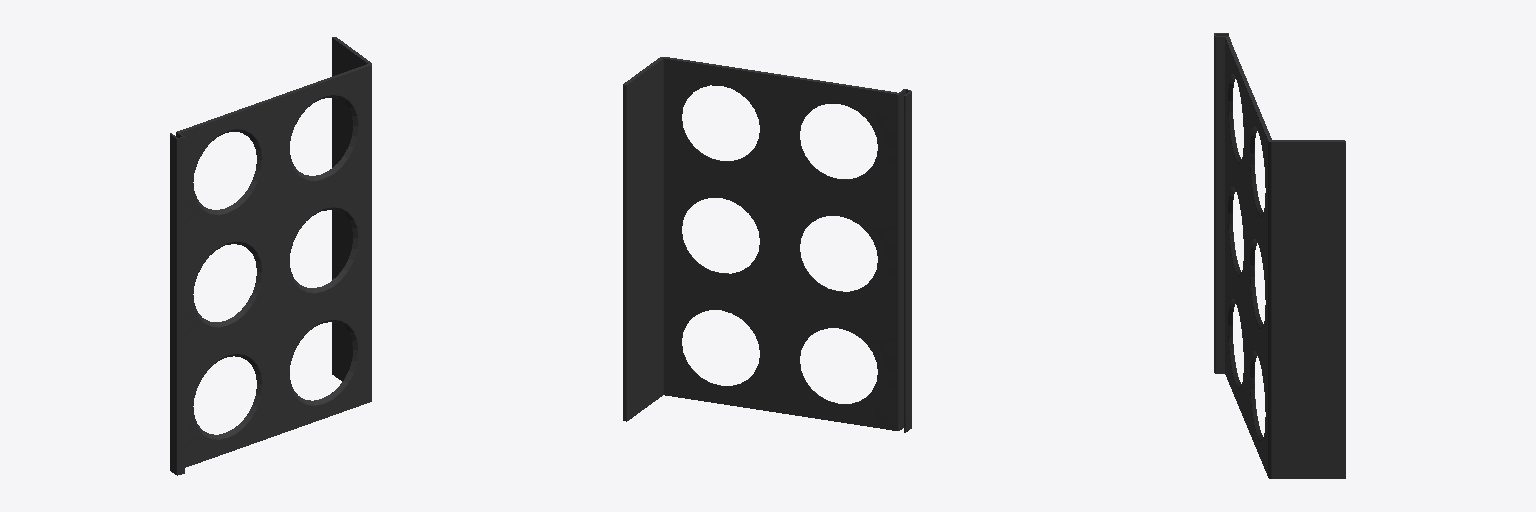
3 views of the same model, side by side, from view 1: azimuth 30°, elevation 25°; view 2: azimuth 150°, elevation 25°; view 3: azimuth 270°, elevation 25° (orthographic).
Visible parts, largest first — view 1: SM_Fridge_Egg_Tray; view 2: SM_Fridge_Egg_Tray; view 3: SM_Fridge_Egg_Tray.
Boxes of the visible parts, box(x1,y1,x2,y2) form: SM_Fridge_Egg_Tray: box(170, 37, 371, 475); SM_Fridge_Egg_Tray: box(623, 57, 911, 432); SM_Fridge_Egg_Tray: box(1214, 33, 1345, 478).
Bounding box in the file's own units: 0.103 × 0.148 × 0.0524.
1 materials, 1 textured.